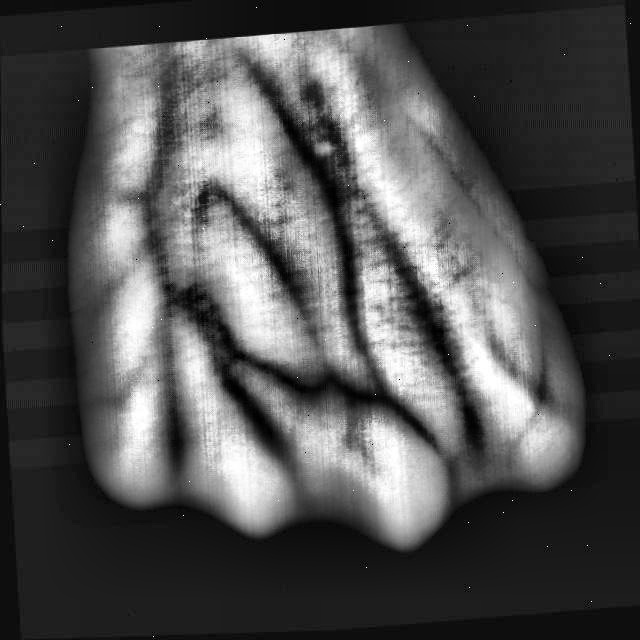Vein: (290, 136, 369, 334)
